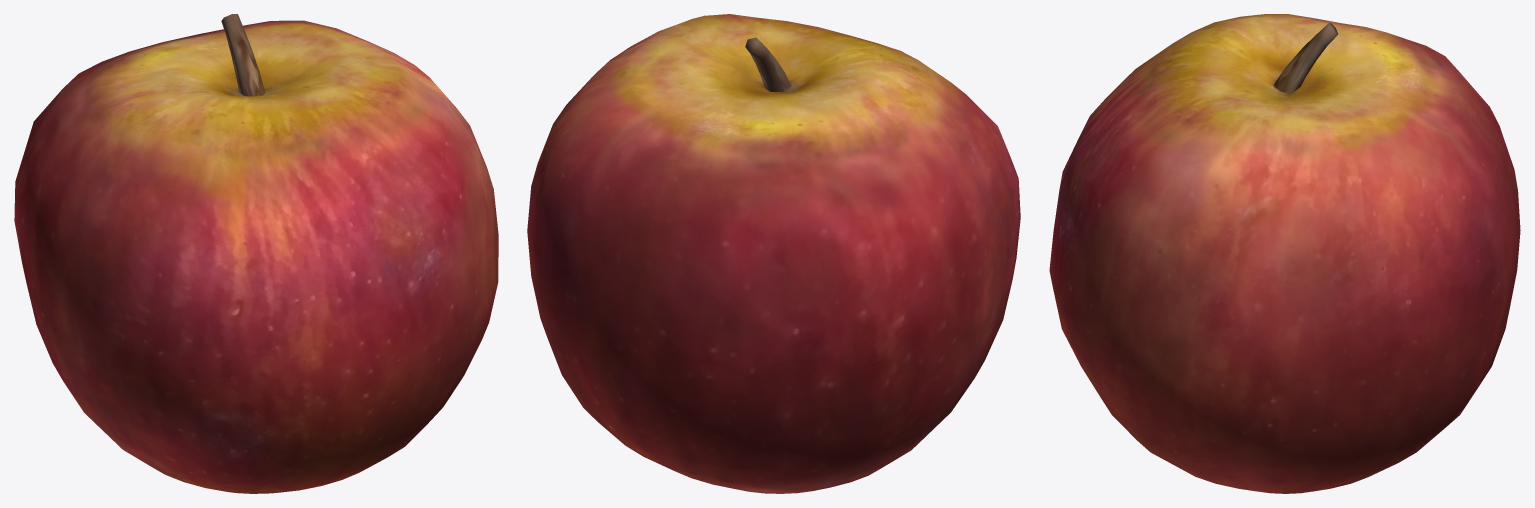
Rendered from apple.glb.
3 views of the same model, side by side, from view 1: azimuth 30°, elevation 25°; view 2: azimuth 150°, elevation 25°; view 3: azimuth 270°, elevation 25° (orthographic). The views are drawn at different scales.
Parts seen in each view (by area): view 1: App1; view 2: App1; view 3: App1.
Boxes of the visible parts, x1,y1,x2,y2 form: App1: [14, 14, 498, 493]; App1: [527, 14, 1020, 493]; App1: [1049, 14, 1520, 493].
Size of the model in its own units: 0.1021 by 0.1053 by 0.1015.
1 material, 1 textured.
